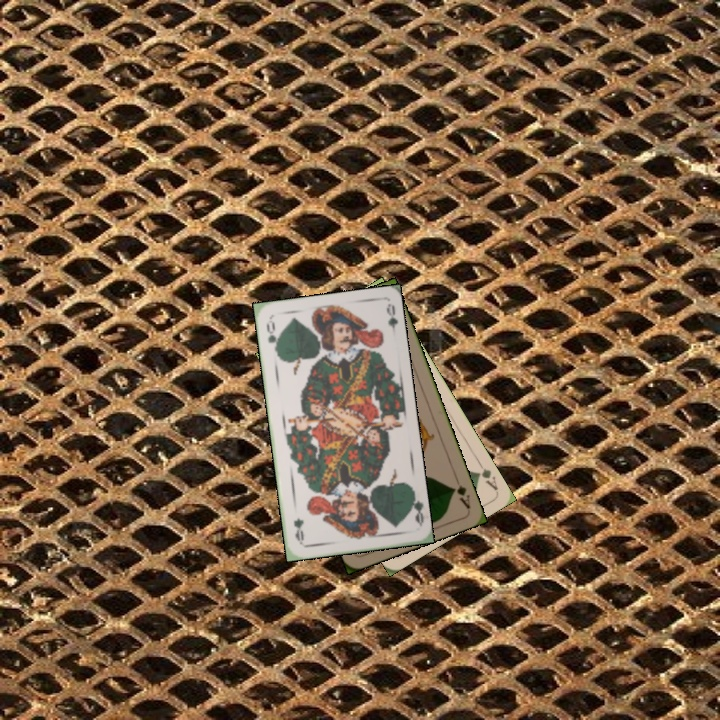GA: (472, 456, 501, 493), (448, 472, 473, 511)
GO: (405, 487, 426, 528), (262, 316, 281, 356)
